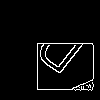D: (25, 25, 86, 83)
